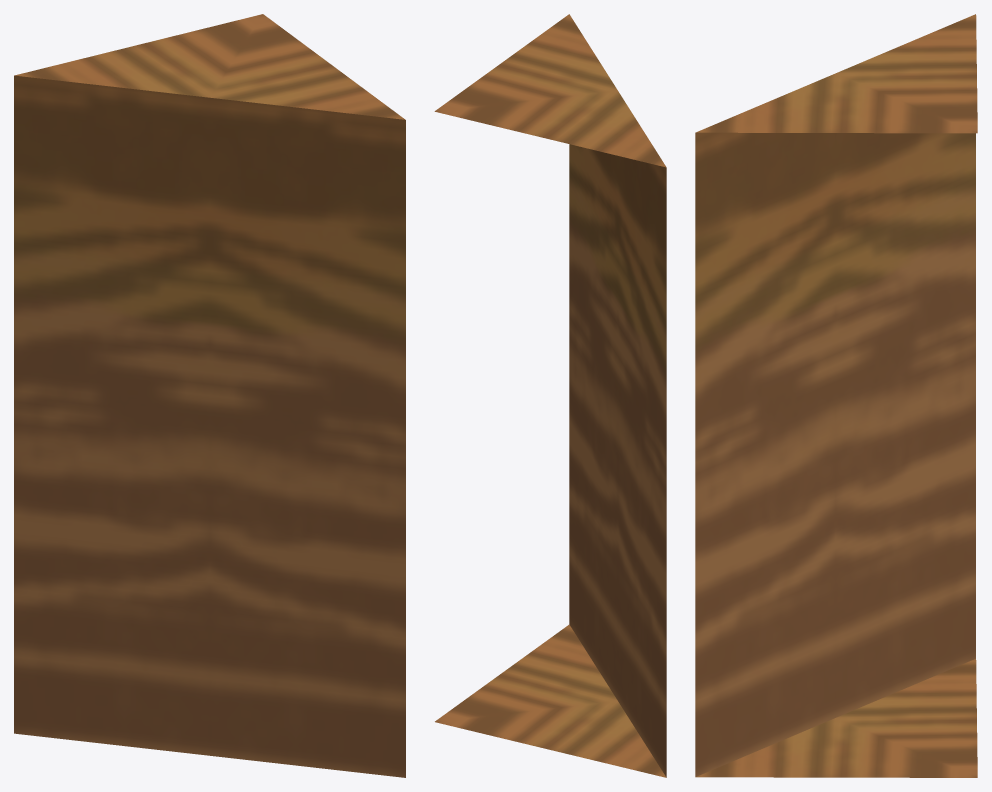
The model's file is Corner_Exterior_TopOnly.gltf.
The picture shows the model from 3 angles, left to right: view 1: azimuth 30°, elevation 25°; view 2: azimuth 150°, elevation 25°; view 3: azimuth 270°, elevation 25°; orthographic projection. The views are drawn at different scales.
Visible parts, largest first — view 1: Corner_Exterior_TopOnly; view 2: Corner_Exterior_TopOnly; view 3: Corner_Exterior_TopOnly.
Part boxes in pixels (<box>): Corner_Exterior_TopOnly: <box>14,14,405,777</box>; Corner_Exterior_TopOnly: <box>434,14,666,777</box>; Corner_Exterior_TopOnly: <box>695,14,977,777</box>.
Bounding box in the file's own units: 0.0928 × 0.2335 × 0.0928.
1 material, 1 textured.
